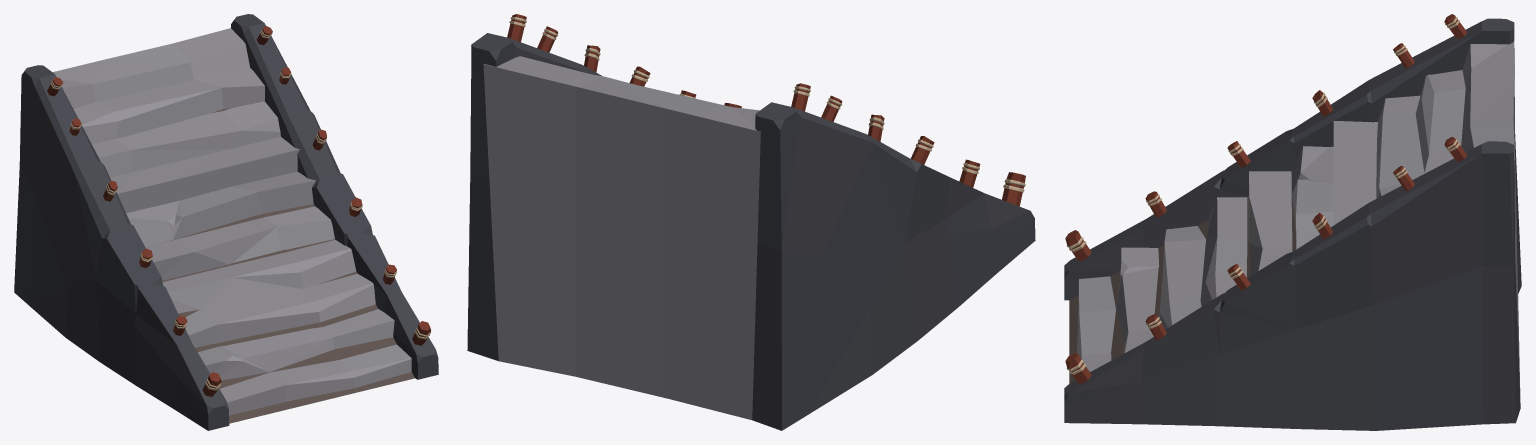
The model's file is Stairs_3.fbx.
3 renders of one model, left to right at view 1: azimuth 30°, elevation 25°; view 2: azimuth 150°, elevation 25°; view 3: azimuth 270°, elevation 25°, orthographic. The views are drawn at different scales.
Visible parts, largest first — view 1: Stairs_3; view 2: Stairs_3; view 3: Stairs_3.
Boxes of the visible parts, x1,y1,x2,y2 form: Stairs_3: (14, 14, 438, 430); Stairs_3: (467, 14, 1035, 430); Stairs_3: (1064, 14, 1521, 430).
Bounding box in the file's own units: 2.51 × 2.19 × 3.25.
